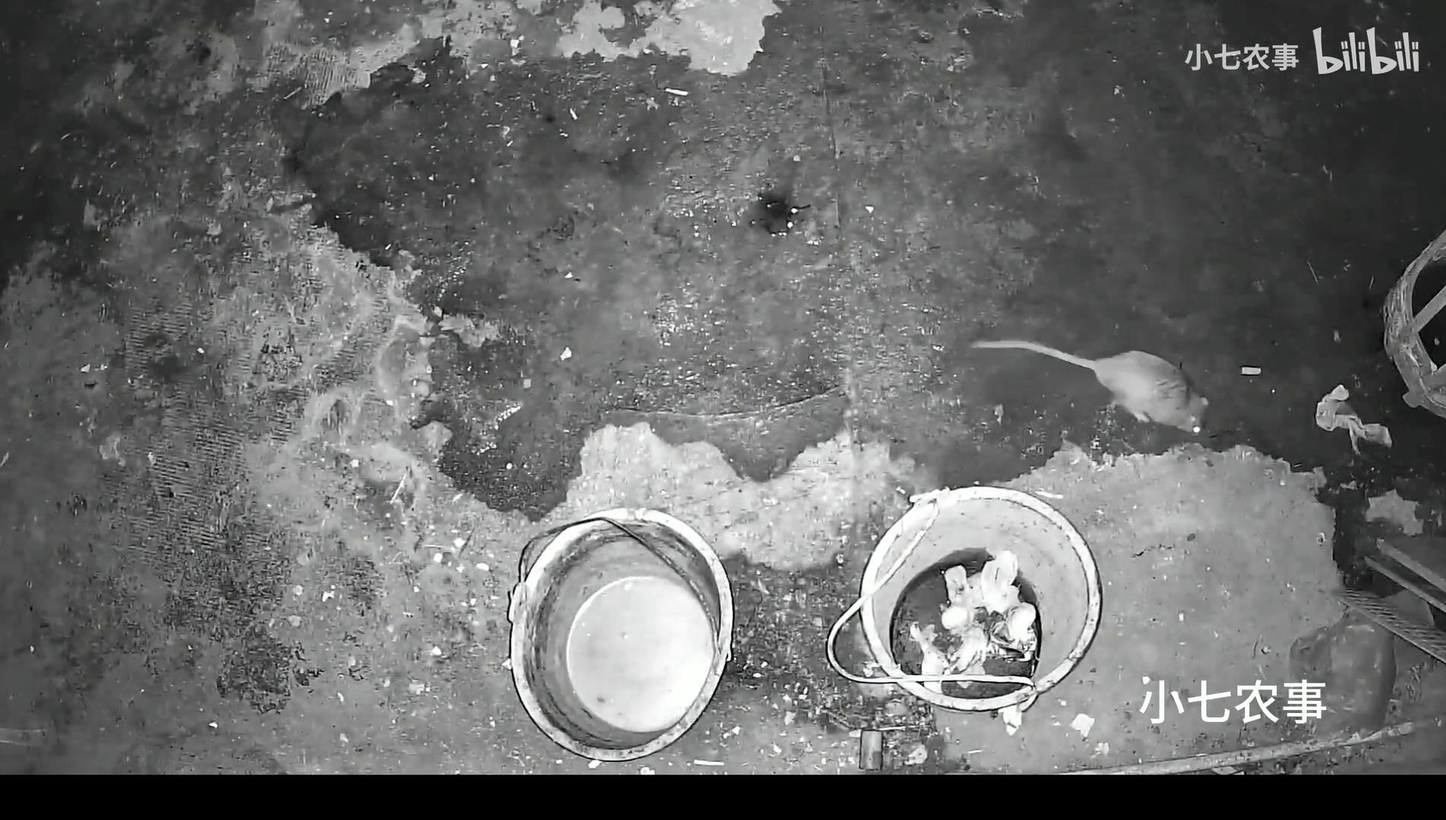rat: (1048, 339, 1216, 444)
